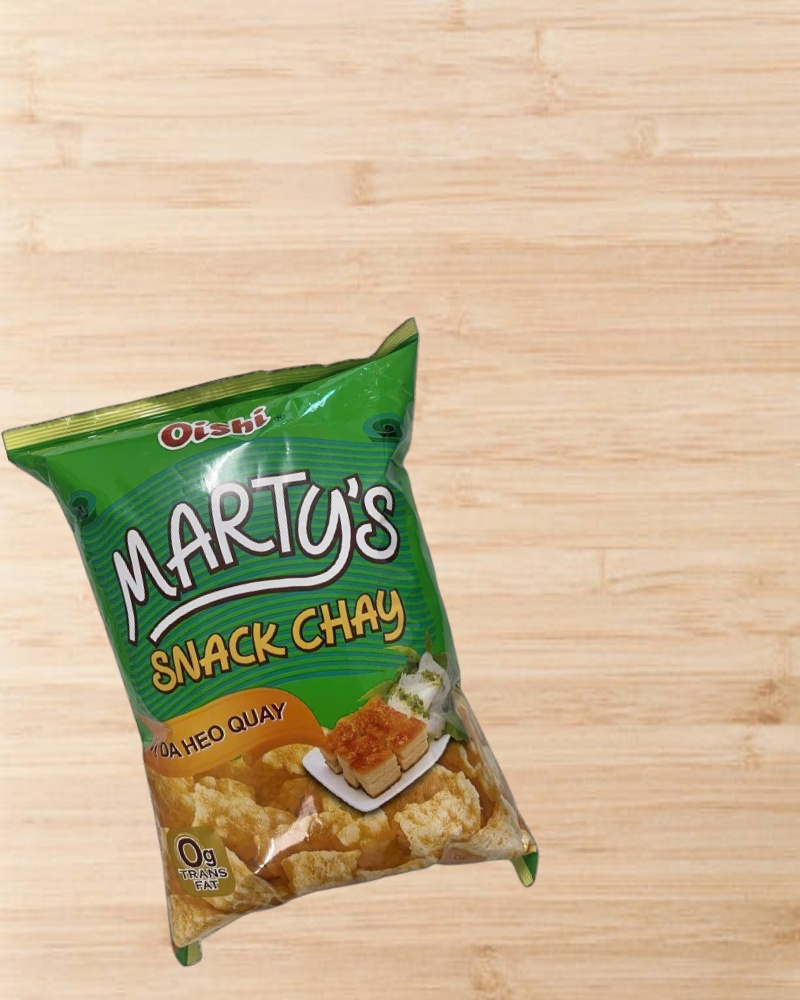Snack chay: (1, 317, 565, 988)
